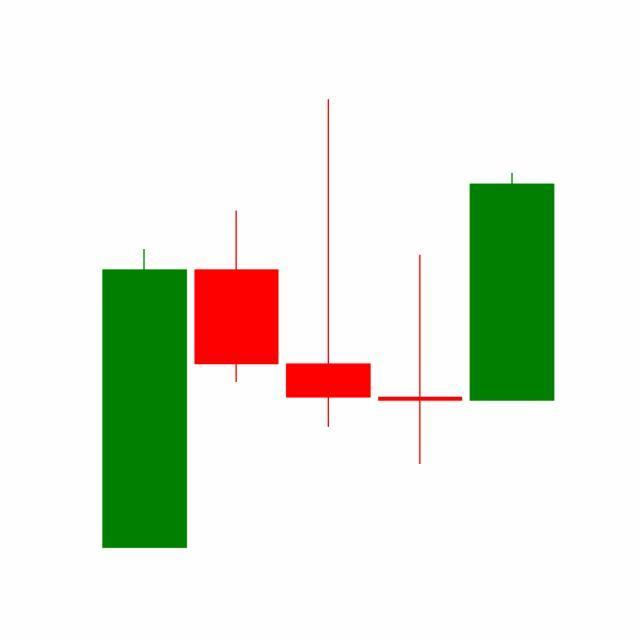Marubozu: (466, 171, 559, 404)
